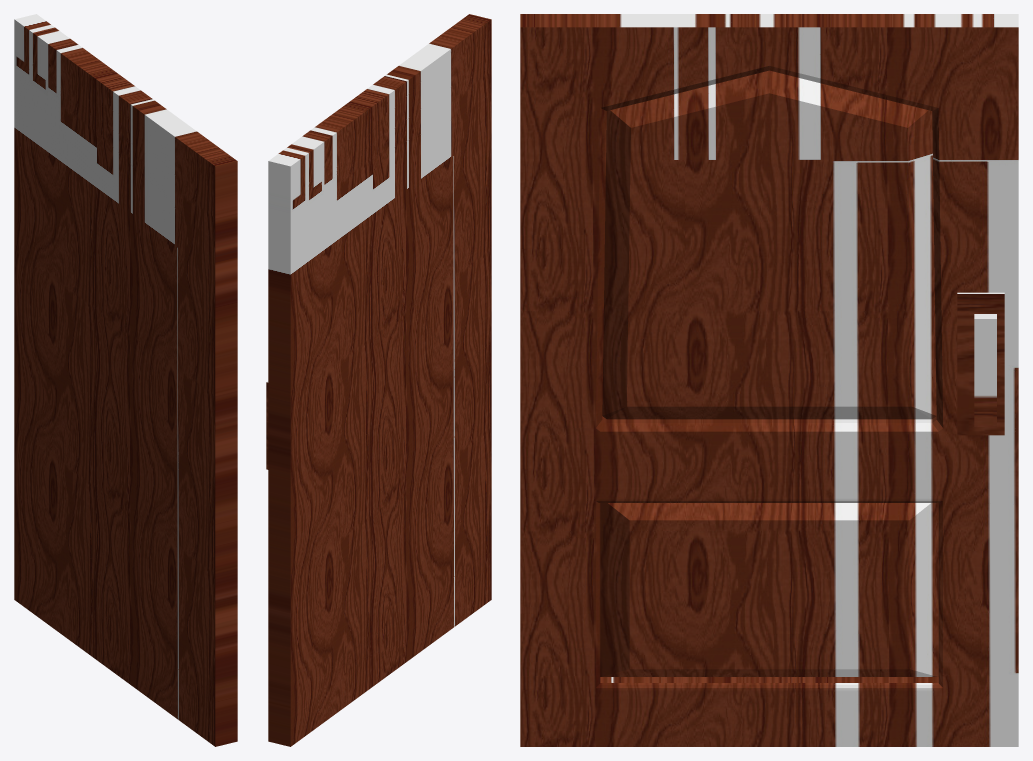
The model's file is door.FBX.
The picture shows the model from 3 angles, left to right: view 1: azimuth 30°, elevation 25°; view 2: azimuth 150°, elevation 25°; view 3: azimuth 270°, elevation 25°; orthographic projection. The views are drawn at different scales.
Visible parts, largest first — view 1: door; view 2: door; view 3: door.
Boxes of the visible parts, x1,y1,x2,y2 form: door: (14, 14, 237, 746); door: (266, 14, 491, 746); door: (520, 14, 1018, 746).
Size of the model in its own units: 0.178 by 3.01 by 1.89.
